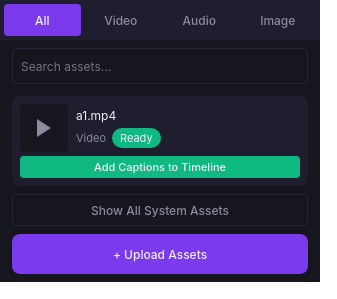
Test: AssetBrowserPanel — scope toggle › clicking toggle again restores "Show All System Assets" label
Click the button with test id "scope-toggle".
click(160, 210)  # box [12,194,308,226]
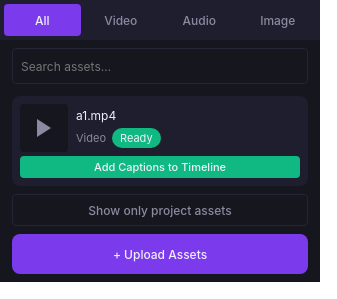
Click the button with test id "scope-toggle".
click(160, 210)  # box [12,194,308,226]
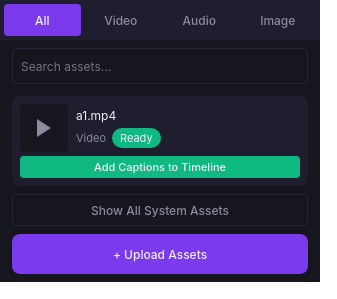
Now the button with test id "scope-toggle" reads "Show All System Assets", box [12,194,308,226]
